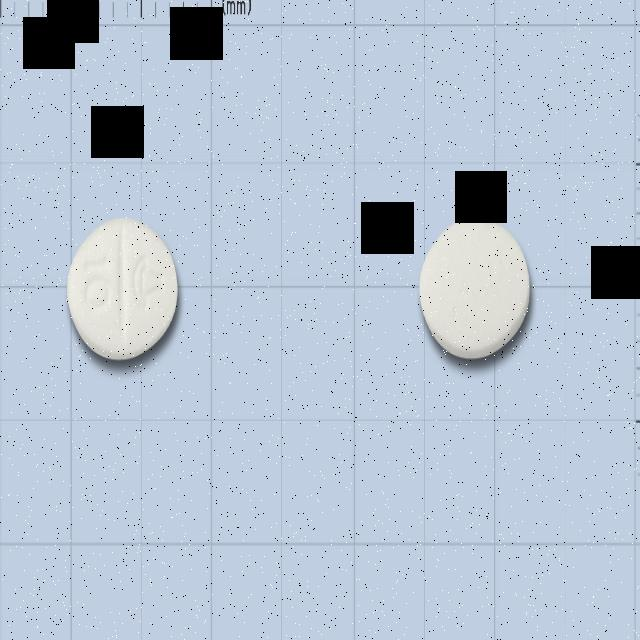CLARITYNE: (61, 204, 184, 376)
